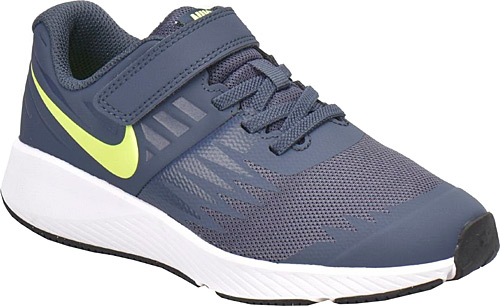nike: (29, 63, 140, 181)
